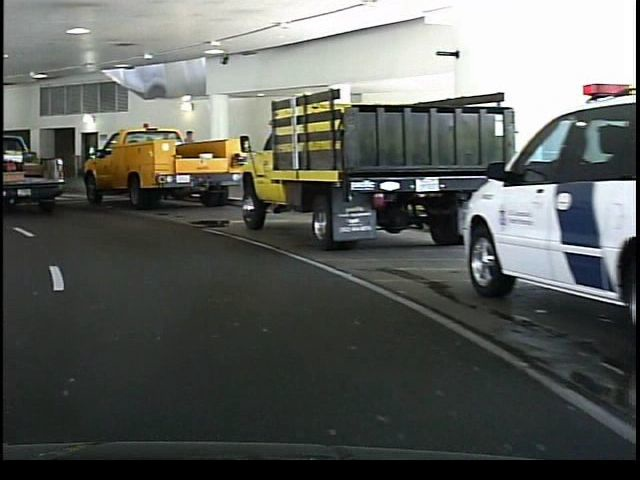person: (177, 125, 200, 195)
